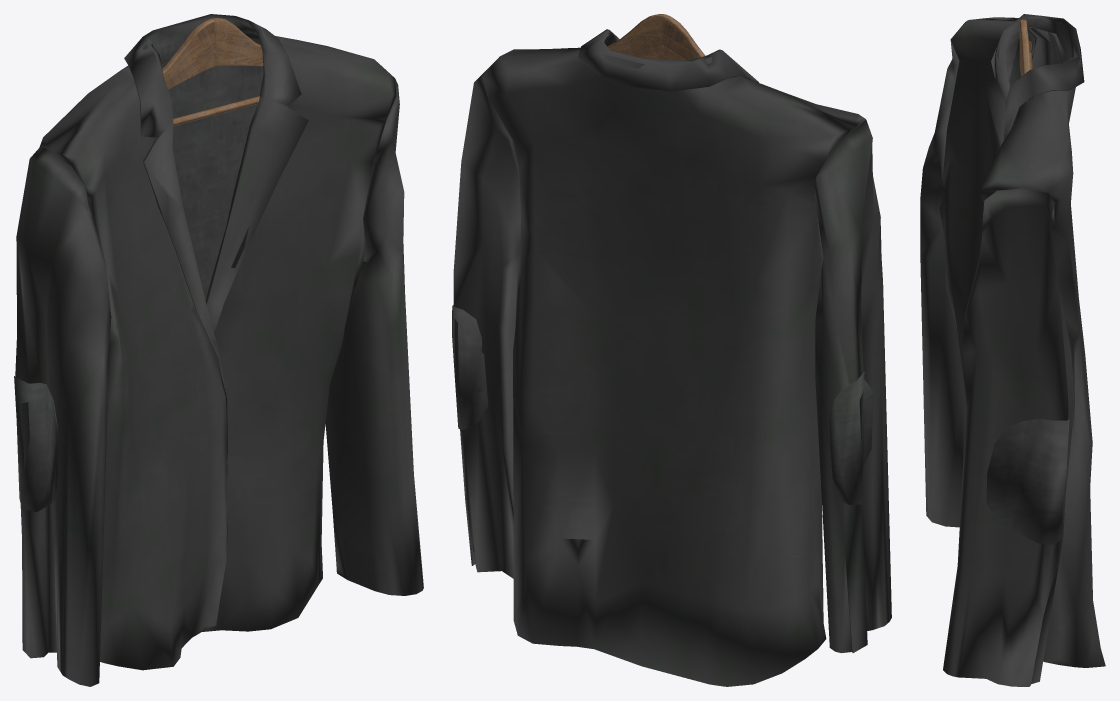
File: hvtop_jacket_017.glb
3 renders of one model, left to right at view 1: azimuth 30°, elevation 25°; view 2: azimuth 150°, elevation 25°; view 3: azimuth 270°, elevation 25°, orthographic. The views are drawn at different scales.
Visible parts, largest first — view 1: jacket_017_StaticMeshComponent0; view 2: jacket_017_StaticMeshComponent0; view 3: jacket_017_StaticMeshComponent0.
Part boxes in pixels (<box>): jacket_017_StaticMeshComponent0: <box>14,14,423,686</box>; jacket_017_StaticMeshComponent0: <box>452,14,891,686</box>; jacket_017_StaticMeshComponent0: <box>920,14,1105,686</box>.
Bounding box in the file's own units: 0.5234 × 0.8112 × 0.224.
3 materials, 3 textured.
